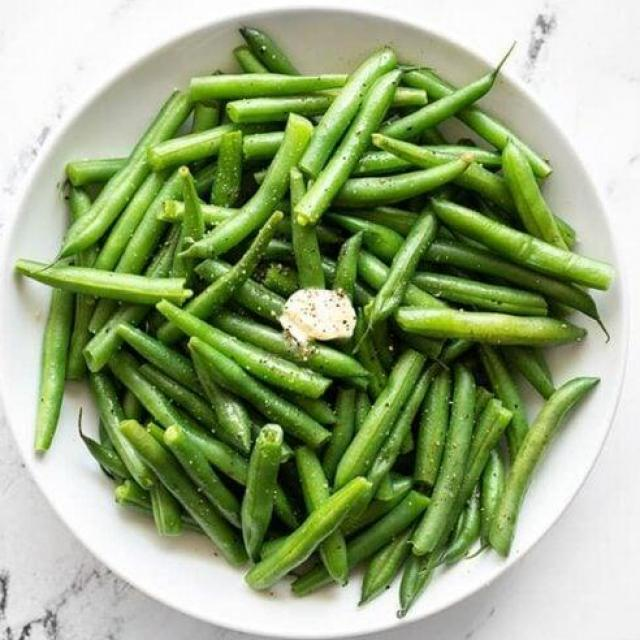Beans: (39, 38, 609, 608)
